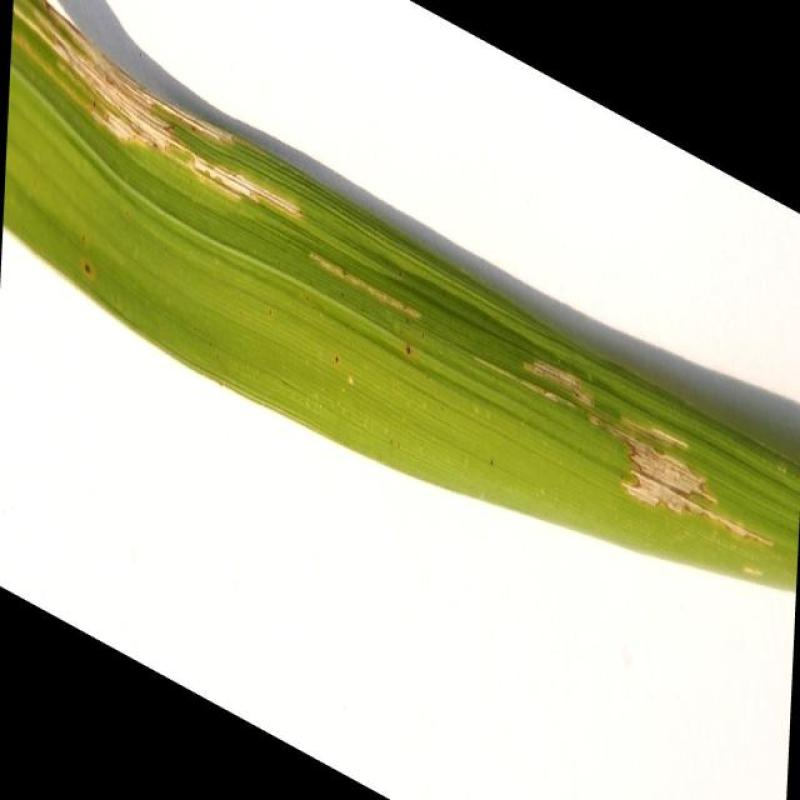Bacterial_Leaf_Blight: (12, 0, 302, 228), (614, 400, 768, 548), (310, 248, 424, 328), (516, 334, 602, 420)
